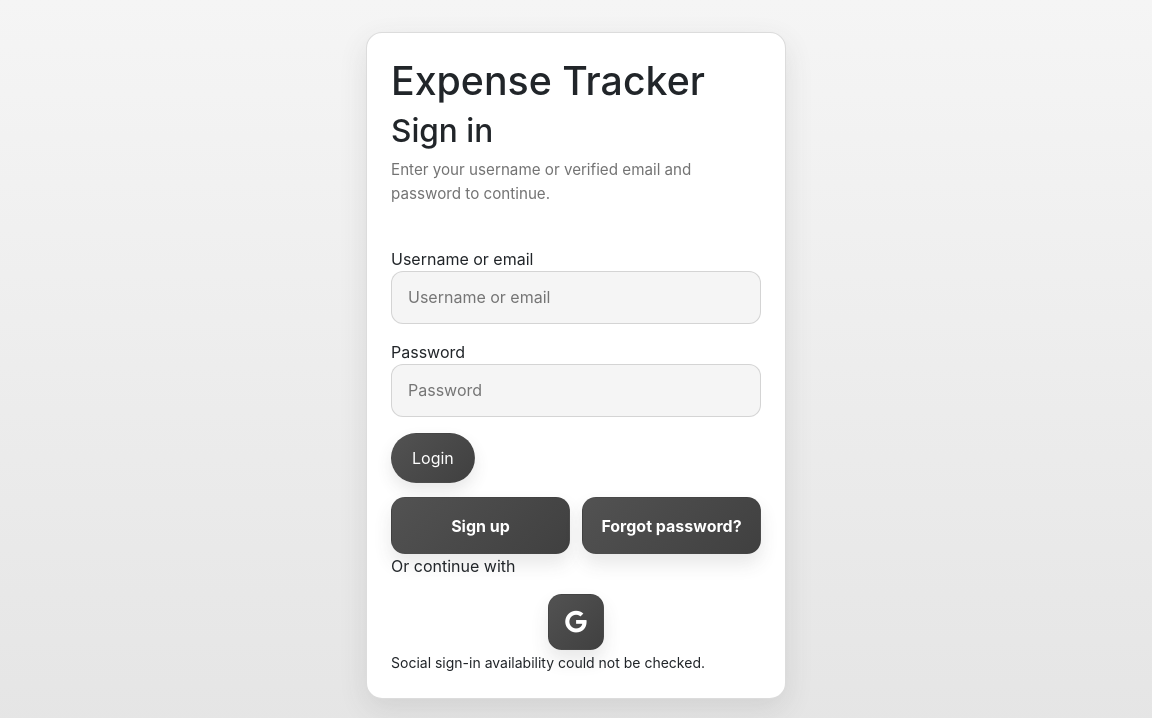
Test: Login unit tests › does not report providers as unconfigured when the status request fails
Expected: the message shows "availability could not be checked", [391,654,705,671]
Click the button named "Continue with Google" at (576, 622), box [548,594,604,650]
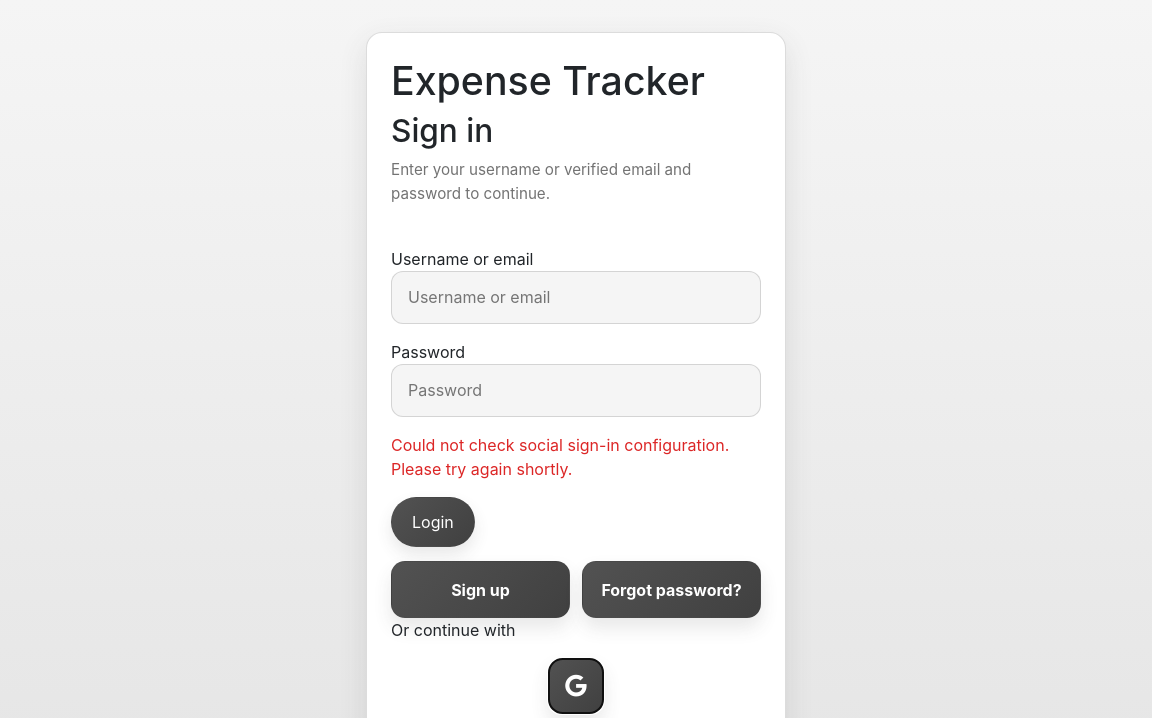
Expected: the text "Could not check social sign-in configuration" is shown, [391,435,729,479]
